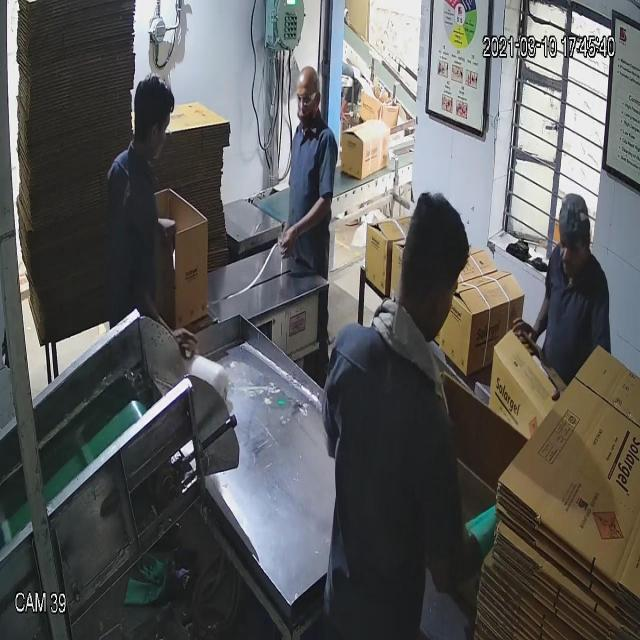No_Gloves: (48, 74, 530, 328)
